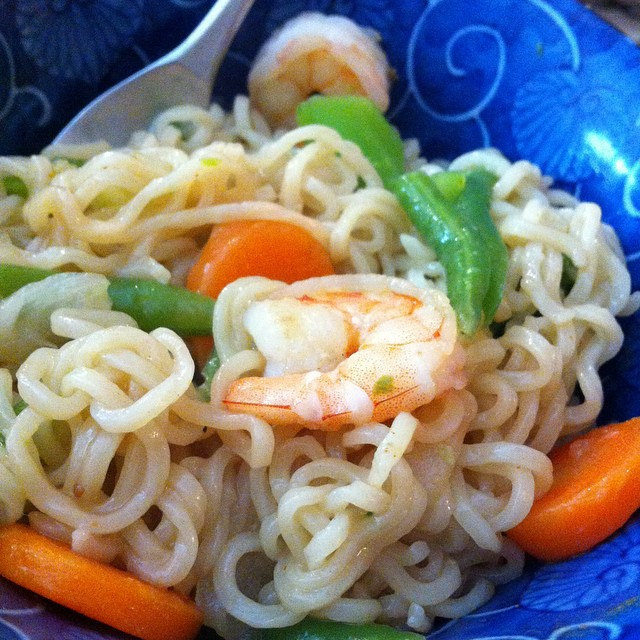plain spaghetti: (17, 159, 476, 568)
